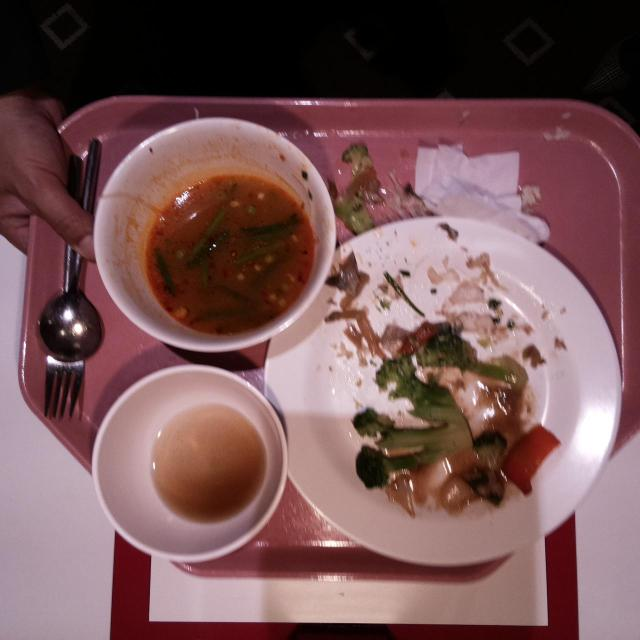Vegetable: (355, 358, 475, 492), (414, 334, 514, 384), (334, 196, 374, 238), (475, 428, 508, 468), (340, 141, 370, 169)
